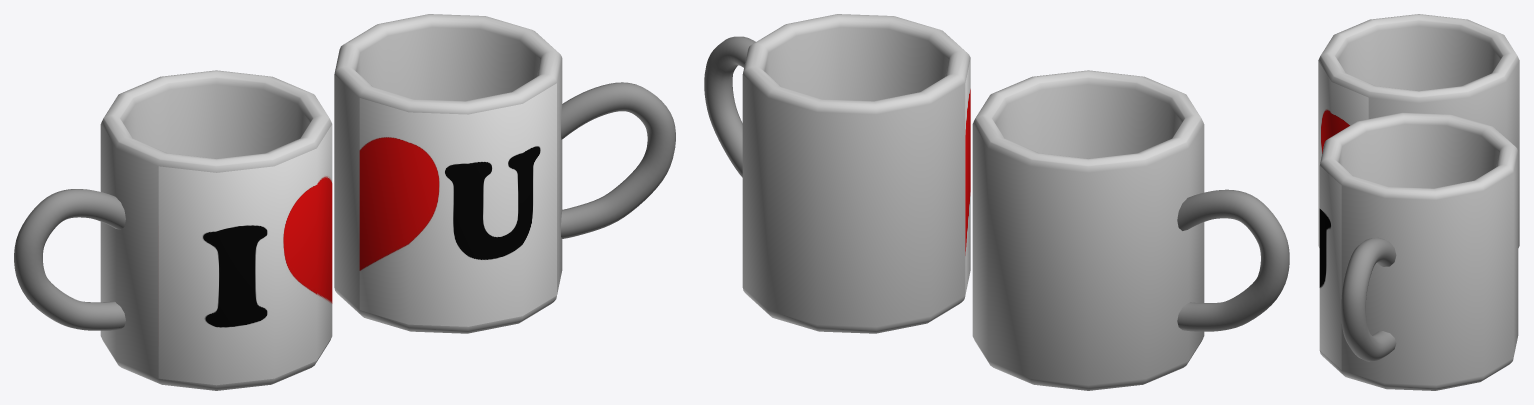
3 views of the same model, side by side, from view 1: azimuth 30°, elevation 25°; view 2: azimuth 150°, elevation 25°; view 3: azimuth 270°, elevation 25° (orthographic). The views are drawn at different scales.
Visible parts, largest first — view 1: Cylinder003, Cylinder001; view 2: Cylinder001, Cylinder003; view 3: Cylinder003, Cylinder001.
Boxes of the visible parts, box(x1,y1,x2,y2) form: Cylinder003: box(334, 14, 675, 333); Cylinder001: box(14, 70, 332, 390); Cylinder001: box(972, 70, 1289, 390); Cylinder003: box(704, 14, 970, 333); Cylinder003: box(1319, 112, 1518, 390); Cylinder001: box(1318, 14, 1519, 247).
Bounding box in the file's own units: 13.39 × 4.72 × 4.33.
4 materials, 2 textured.
